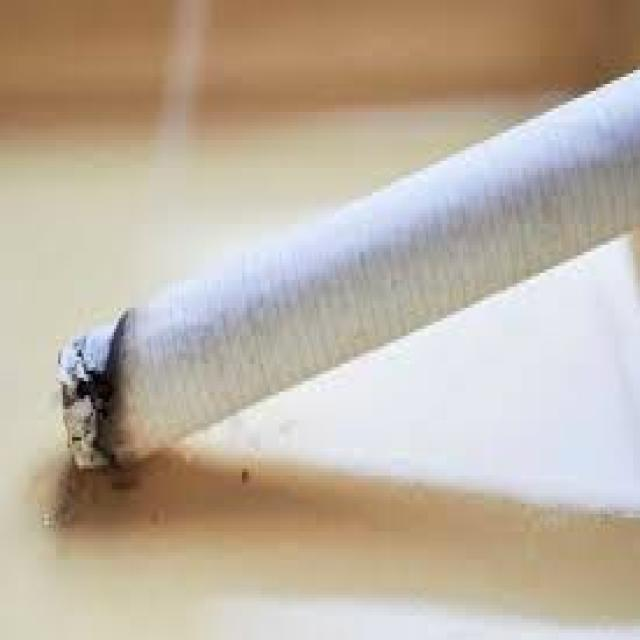Cigarette: (58, 68, 638, 470)
